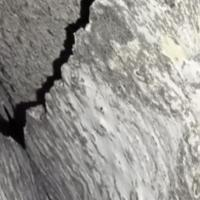crack: (1, 0, 126, 157)
